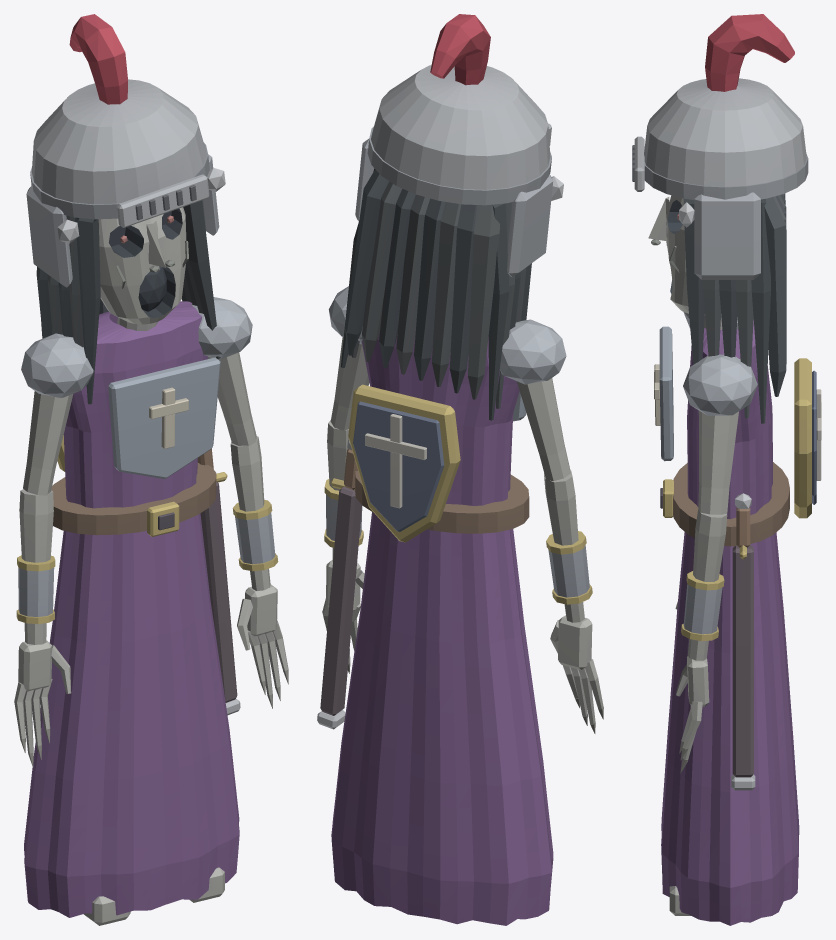
File: SlendrinaKnight.glb
The picture shows the model from 3 angles, left to right: view 1: azimuth 30°, elevation 25°; view 2: azimuth 150°, elevation 25°; view 3: azimuth 270°, elevation 25°; orthographic projection. The views are drawn at different scales.
Visible parts, largest first — view 1: Body, Head, ArmR, ArmL, LegR; view 2: Body, Head, ArmR, ArmL; view 3: Body, Head, ArmL.
Boxes of the visible parts, box(x1,y1,x2,y2) form: Body: box(24, 301, 240, 917); Head: box(26, 14, 225, 404); ArmR: box(14, 333, 93, 766); ArmL: box(191, 297, 288, 708); LegR: box(83, 896, 130, 925); Body: box(317, 331, 553, 925); Head: box(340, 14, 563, 420); ArmR: box(499, 319, 603, 733); ArmL: box(322, 286, 369, 673); Body: box(654, 314, 821, 925); Head: box(632, 14, 808, 423); ArmL: box(675, 354, 757, 773).
Bounding box in the file's own units: 2.44 × 7.58 × 1.52.
